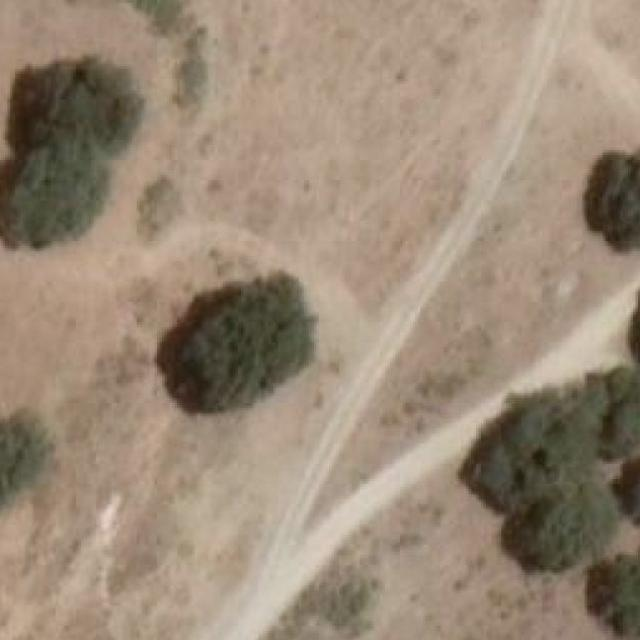Tree: (5, 59, 132, 236), (170, 280, 325, 411), (461, 383, 600, 512), (516, 481, 612, 570), (592, 145, 640, 246), (0, 416, 51, 502), (594, 540, 640, 631), (594, 371, 640, 456)
